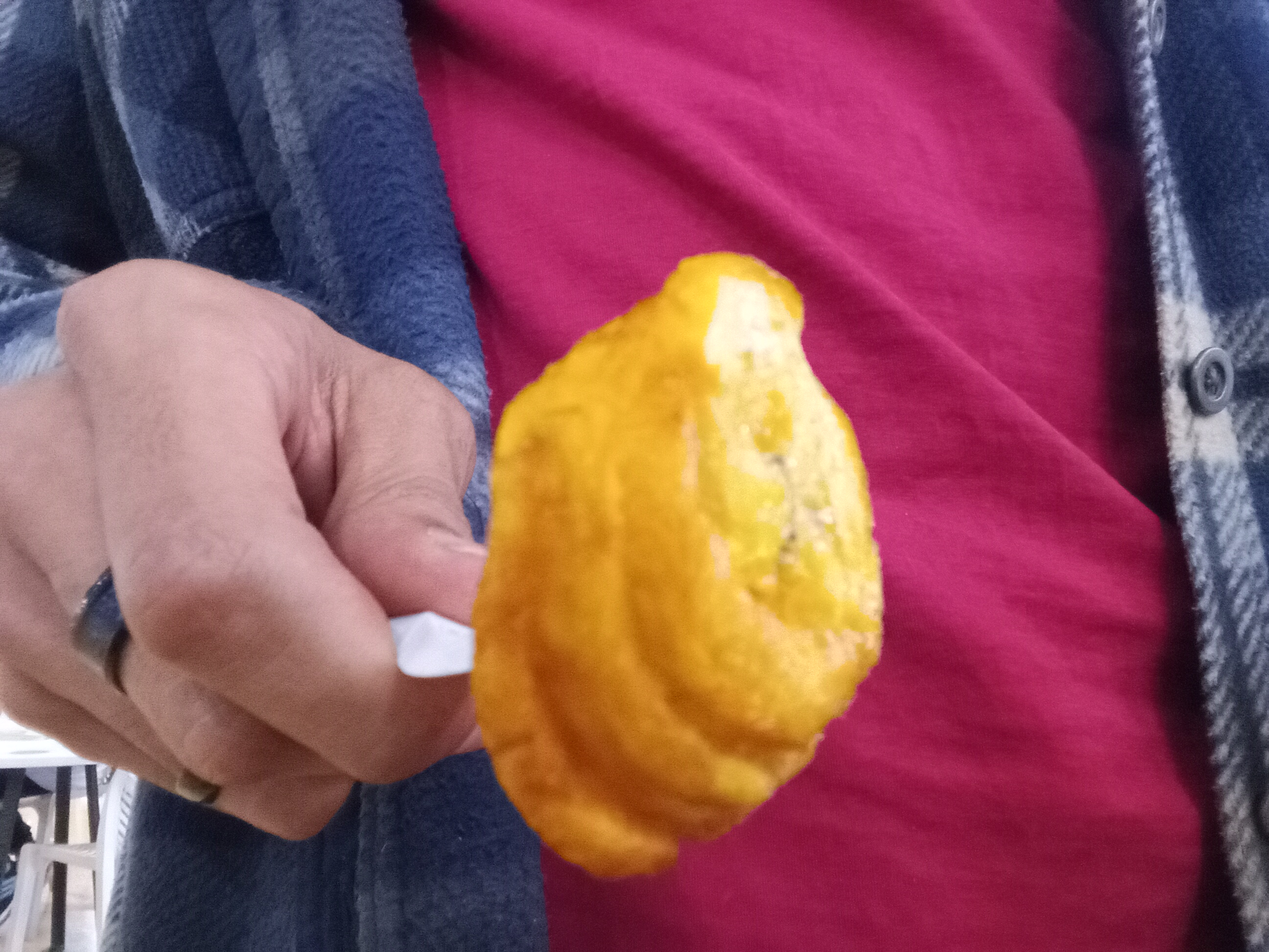Organico: (473, 251, 885, 878)
